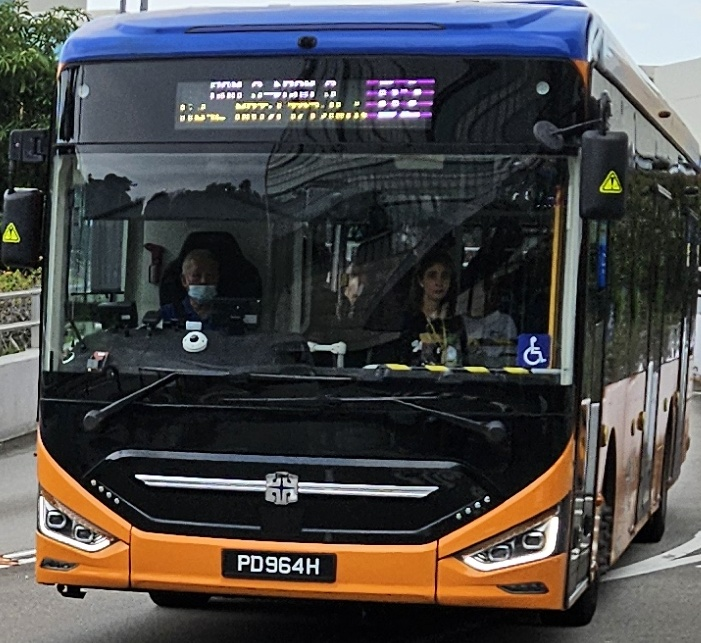bus: (364, 77, 433, 125)
